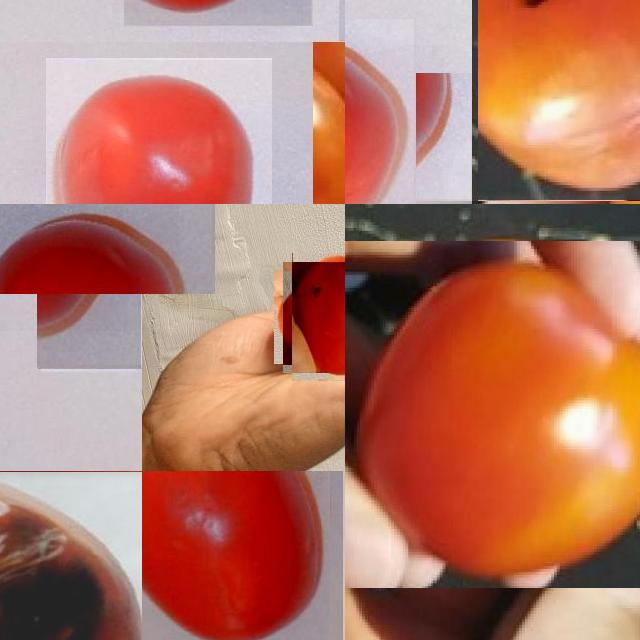0: (345, 240, 640, 587)
Fresh Tomato: (142, 471, 342, 640), (46, 58, 272, 204), (0, 204, 178, 331), (345, 45, 444, 204), (283, 262, 345, 373)
Rotten Tomato: (478, 0, 640, 201), (0, 471, 142, 640)
